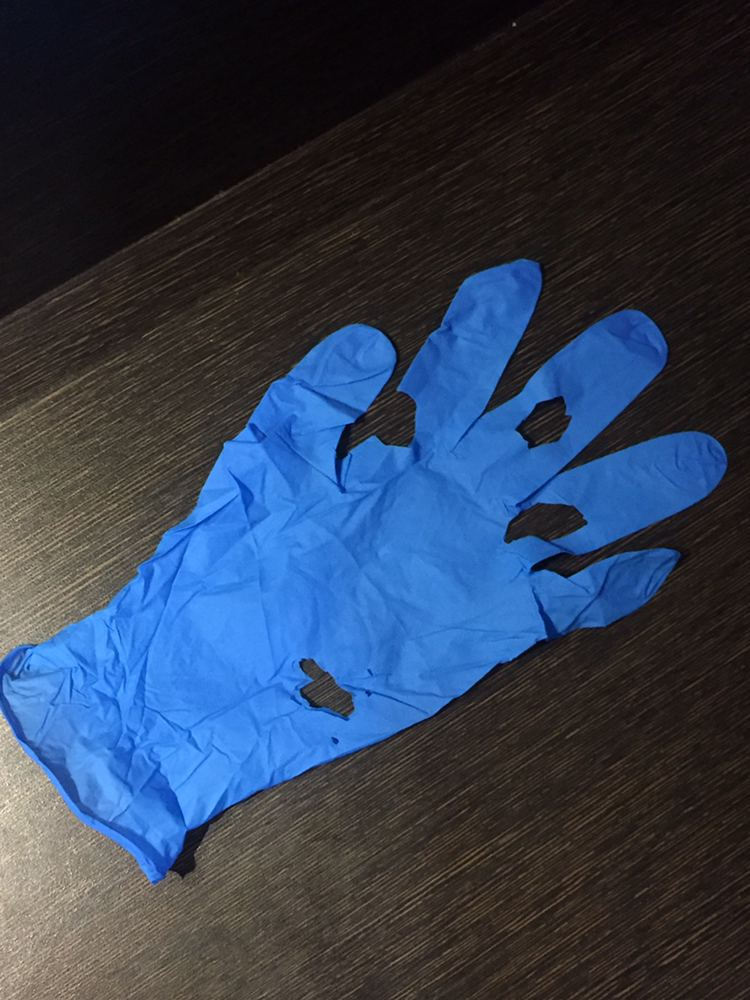defected: (1, 275, 750, 868)
